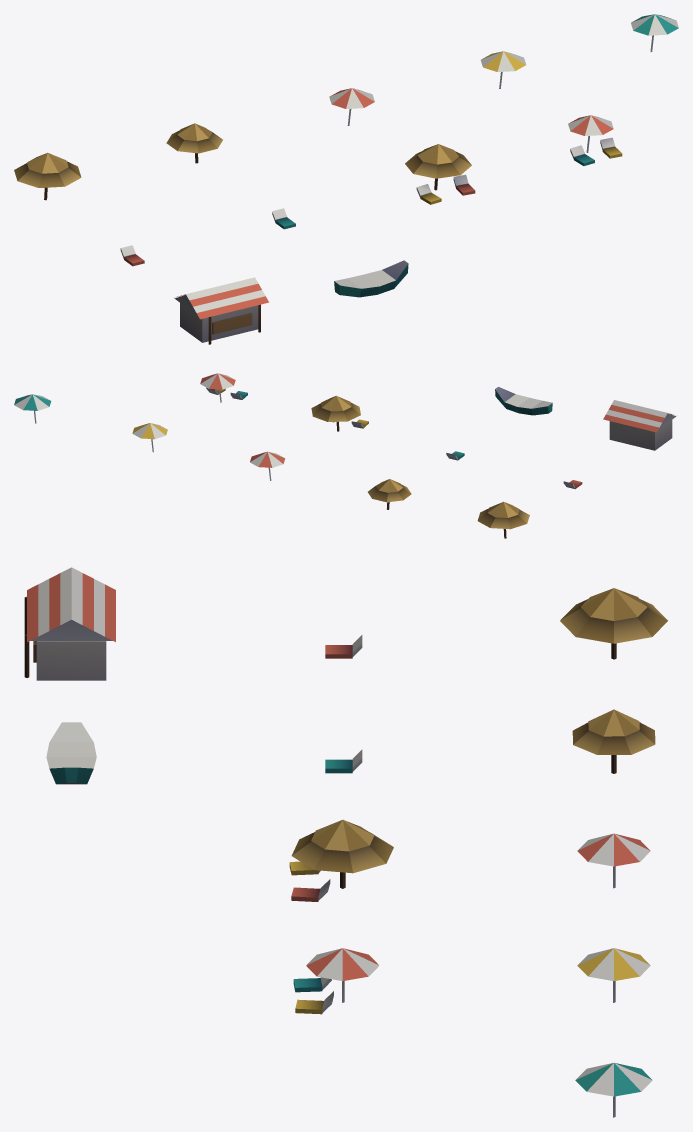
The model's file is playa_kit.glb.
3 views of the same model, one above another, from view 1: azimuth 30°, elevation 25°; view 2: azimuth 150°, elevation 25°; view 3: azimuth 270°, elevation 25° (orthographic). The views are drawn at different scales.
Parts seen in each view (by area): view 1: bar_kiosco, set_palapa, palapa_a, bote_varado, set_sombrilla, palapa_b, sombrilla_teal, sombrilla_coral, sombrilla_amarilla; view 2: bar_kiosco, set_palapa, palapa_a, bote_varado, palapa_b, set_sombrilla, sombrilla_teal, sombrilla_coral, sombrilla_amarilla; view 3: bar_kiosco, set_palapa, palapa_a, palapa_b, set_sombrilla, bote_varado, sombrilla_teal, sombrilla_coral, sombrilla_amarilla.
Boxes of the visible parts, box(x1,y1,x2,y2) form: bar_kiosco: box(174, 277, 268, 344); set_palapa: box(405, 144, 475, 204); palapa_a: box(14, 152, 81, 200); bote_varado: box(334, 260, 408, 297); set_sombrilla: box(568, 115, 622, 165); palapa_b: box(166, 123, 222, 163); sombrilla_teal: box(631, 14, 678, 51); sombrilla_coral: box(329, 88, 374, 125); sombrilla_amarilla: box(480, 51, 526, 88); bar_kiosco: box(603, 400, 676, 450); set_palapa: box(311, 395, 368, 431); palapa_a: box(477, 501, 529, 538); bote_varado: box(495, 387, 552, 415); palapa_b: box(368, 479, 411, 509); set_sombrilla: box(200, 373, 247, 402); sombrilla_teal: box(14, 394, 51, 423); sombrilla_coral: box(250, 451, 285, 480); sombrilla_amarilla: box(132, 423, 167, 452); bar_kiosco: box(24, 567, 115, 680); set_palapa: box(289, 819, 393, 901); palapa_a: box(560, 588, 667, 659); palapa_b: box(572, 709, 655, 773); set_sombrilla: box(293, 948, 379, 1014); bote_varado: box(46, 722, 96, 784); sombrilla_teal: box(575, 1062, 652, 1117); sombrilla_coral: box(577, 833, 650, 888); sombrilla_amarilla: box(577, 948, 650, 1002).
Size of the model in its own units: 61.55 by 4.11 by 33.22.
